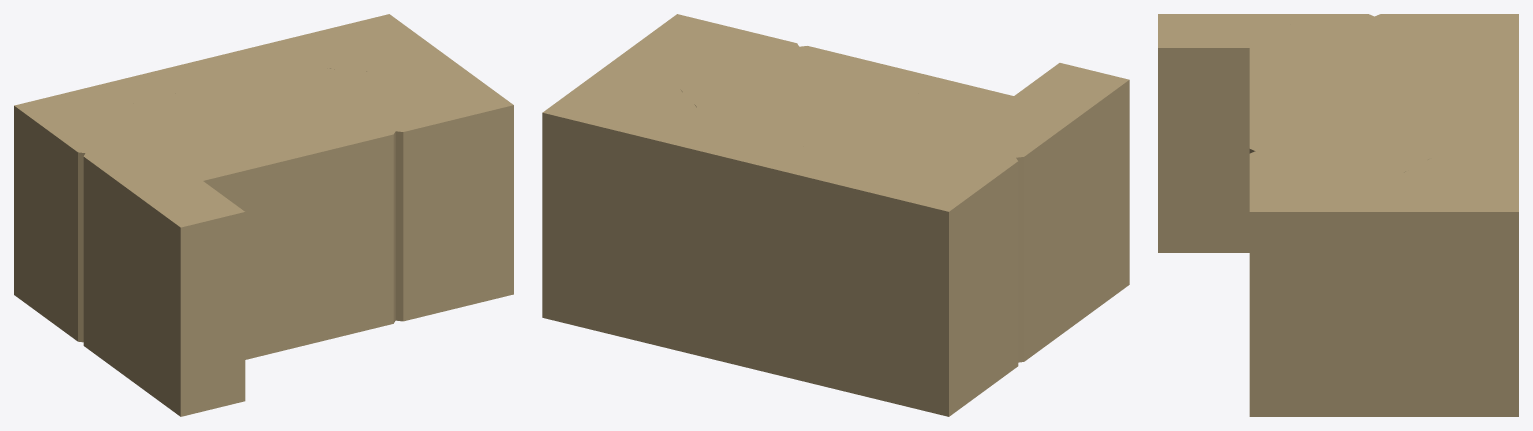
File: блок.FBX
3 views of the same model, side by side, from view 1: azimuth 30°, elevation 25°; view 2: azimuth 150°, elevation 25°; view 3: azimuth 270°, elevation 25° (orthographic). The views are drawn at different scales.
Parts seen in each view (by area): view 1: MassElem <Standard> Body (×2), Layer:0; view 2: MassElem <Standard> Body (×2), Layer:0; view 3: MassElem <Standard> Body (×2), Layer:0.
Boxes of the visible parts, x1,y1,x2,y2 form: MassElem <Standard> Body (×2): [14, 14, 513, 416]; Layer:0: [47, 64, 456, 367]; MassElem <Standard> Body (×2): [542, 14, 1129, 416]; Layer:0: [661, 29, 1057, 390]; MassElem <Standard> Body (×2): [1158, 14, 1518, 416]; Layer:0: [1249, 14, 1458, 186].
Bounding box in the file's own units: 390 × 188 × 300.
